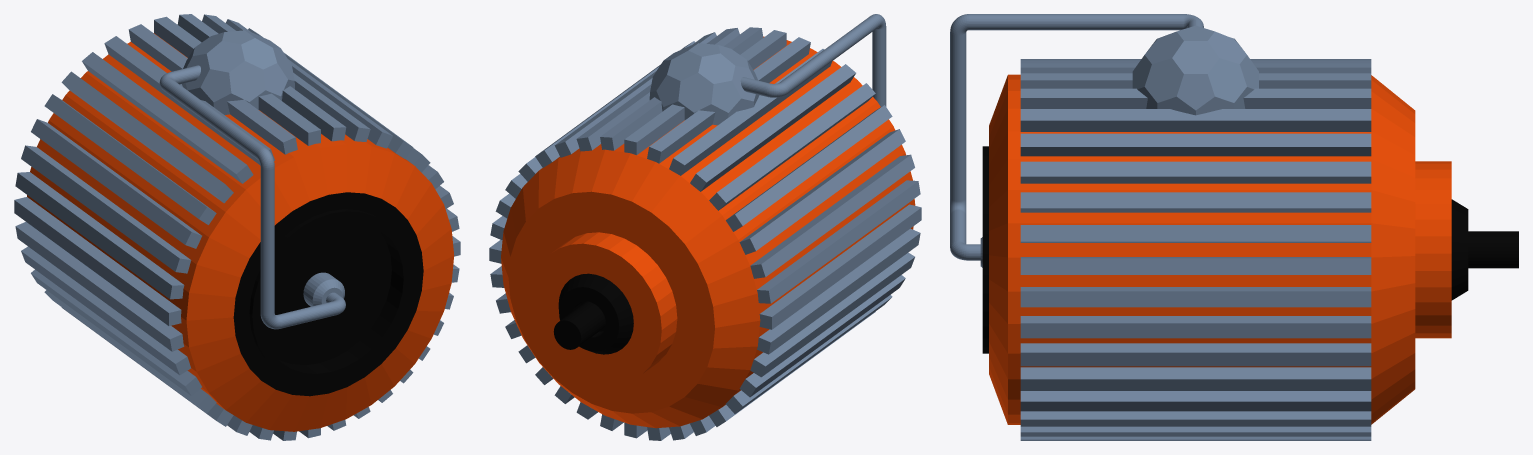
Rendered from upgrade_speed.fbx.
3 views of the same model, side by side, from view 1: azimuth 30°, elevation 25°; view 2: azimuth 150°, elevation 25°; view 3: azimuth 270°, elevation 25° (orthographic). The views are drawn at different scales.
Parts seen in each view (by area): view 1: motor core, ribs, brain, Cylinder.004, junction; view 2: motor core, ribs, brain, Cylinder.004; view 3: ribs, motor core, brain, Cylinder.004.
Boxes of the visible parts, x1,y1,x2,y2 form: motor core: (27,33,454,431); ribs: (14,14,460,440); brain: (182,30,294,114); Cylinder.004: (159,65,345,329); junction: (303,272,344,306); motor core: (501,36,915,428); ribs: (489,27,921,440); brain: (649,43,759,125); Cylinder.004: (740,14,886,106); ribs: (1020,59,1371,440); motor core: (982,74,1518,424); brain: (1132,25,1258,115); Cylinder.004: (950,14,1203,260).
Bounding box in the file's own units: 147 × 166 × 219.
